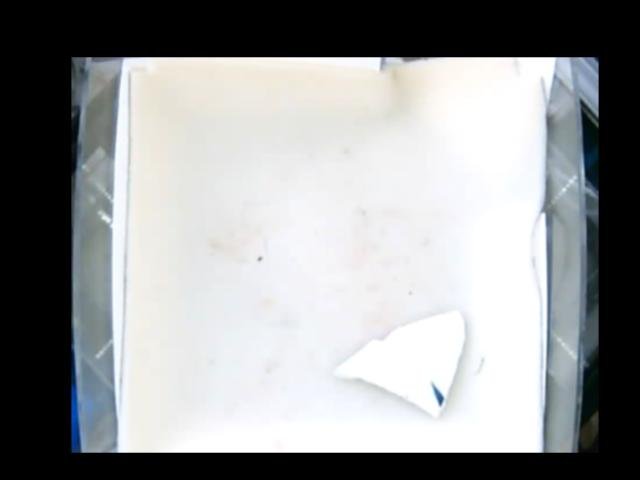China: (335, 309, 465, 417)
